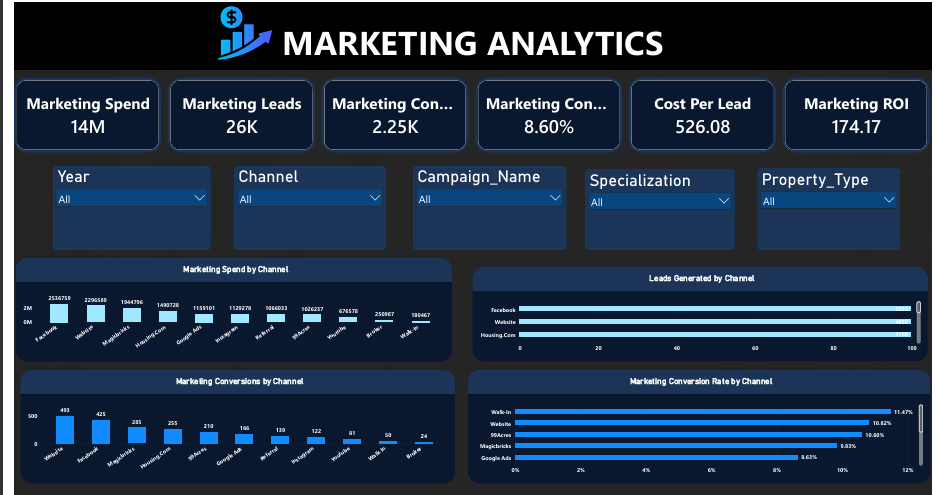

This screenshot's page, from the dashboard's own definition file:
{"tool":"powerbi","page":{"name":" Marketing Analytics","canvas":[2000,2700],"ordinal":5},"visuals":[{"type":"textbox","box":[0,0,2000,147.5],"z":0},{"type":"scatterChart","title":"Campaign Spend vs Revenue","fields":{"Category":["Dim_Campaign.Campaign_Name"],"Size":["_Marketing_Measures.Marketing Leads"],"X":["_Marketing_Measures.Marketing Spend"],"Y":["_Marketing_Measures.Marketing Revenue"]},"box":[1000,1570,926.7,280],"z":1000},{"type":"cardVisual","fields":{"Data":["_Marketing_Measures.Marketing Spend"]},"box":[0,165,320.8,162.5],"z":2000,"group":"g2"},{"type":"clusteredBarChart","title":"Top 10 Campaigns by Revenue","fields":{"Category":["Dim_Campaign.Campaign_Name"],"Y":["_Marketing_Measures.Marketing Revenue"]},"box":[10,1566.7,956.7,290],"z":2000},{"type":"group","id":"g1","title":"Group 1","box":[0,165,1995,162.5],"z":3000},{"type":"cardVisual","fields":{"Data":["_Marketing_Measures.Marketing Leads"]},"box":[334.8,165,320.8,162.5],"z":3000,"group":"g2"},{"type":"cardVisual","fields":{"Data":["_Marketing_Measures.Marketing Conversions"]},"box":[669.7,165,320.8,162.5],"z":4000,"group":"g2"},{"type":"clusteredColumnChart","title":"Marketing Spend by Channel","fields":{"Category":["Dim_Campaign.Channel"],"Y":["_Marketing_Measures.Marketing Spend"]},"box":[0,554,958,234],"z":4000},{"type":"cardVisual","fields":{"Data":["_Marketing_Measures.Marketing Conversion %"]},"box":[1004.5,165,320.8,162.5],"z":5000,"group":"g2"},{"type":"clusteredBarChart","title":"Leads Generated by Channel","fields":{"Category":["Dim_Campaign.Channel"],"Y":["_Marketing_Measures.Marketing Leads"]},"box":[995,573.3,1000,213.3],"z":5000},{"type":"cardVisual","fields":{"Data":["_Marketing_Measures.Cost Per Lead"]},"box":[1339.4,165,320.8,162.5],"z":6000,"group":"g2"},{"type":"clusteredColumnChart","fields":{"Category":["Dim_Campaign.Channel"],"Y":["_Marketing_Measures.Marketing Conversions"]},"box":[10,797.5,955,255],"z":6000},{"type":"cardVisual","fields":{"Data":["_Marketing_Measures.Marketing ROI"]},"box":[1674.2,165,320.8,162.5],"z":7000,"group":"g2"},{"type":"clusteredBarChart","title":"Marketing Conversion Rate by Channel","fields":{"Category":["Dim_Campaign.Channel"],"Y":["_Marketing_Measures.Marketing Conversion %"]},"box":[985,797.5,1015,255],"z":7000},{"type":"clusteredBarChart","title":"Cost per Lead by Channel","fields":{"Category":["Dim_Campaign.Channel"],"Y":["_Marketing_Measures.Cost Per Lead"]},"box":[0,1082.5,956.7,216.7],"z":8000},{"type":"clusteredColumnChart","title":"Marketing Revenue by Channel","fields":{"Category":["Dim_Campaign.Channel"],"Y":["_Marketing_Measures.Marketing Revenue"]},"box":[986.7,1083.3,1013.3,216.7],"z":9000},{"type":"clusteredBarChart","fields":{"Category":["Dim_Campaign.Channel"],"Y":["_Marketing_Measures.Marketing ROI"]},"box":[7.5,1332.5,957,200],"z":10000},{"type":"pivotTable","title":"Campaign Performance Scorecard","fields":{"Rows":["Dim_Campaign.Campaign_Name"],"Values":["_Marketing_Measures.Marketing Leads","_Marketing_Measures.Marketing Revenue","_Marketing_Measures.Marketing ROI","_Marketing_Measures.Marketing Conversions","_Marketing_Measures.Cost Per Lead","_Marketing_Measures.Marketing Conversion %","_Marketing_Measures.Marketing Spend"]},"box":[975,1333.3,1013,200],"z":11000},{"type":"slicer","fields":{"Values":["Dim_Date.Year"]},"box":[85,357.5,342.5,182.5],"z":12000},{"type":"slicer","fields":{"Values":["Dim_Campaign.Channel"]},"box":[480,357.5,330,182.5],"z":13000},{"type":"slicer","fields":{"Values":["Dim_Campaign.Campaign_Name"]},"box":[870,357.5,332.5,182.5],"z":14000},{"type":"slicer","fields":{"Values":["Dim_Agent.Specialization"]},"box":[1245,365,325,175],"z":15000},{"type":"slicer","fields":{"Values":["Dim_Property.Property_Type"]},"box":[1620,362.5,310,177.5],"z":16000},{"type":"group","id":"g2","title":"Group 2","box":[0,165,1995,162.5],"z":17001,"group":"g1"},{"type":"lineChart","title":"Monthly Marketing Revenue Trend","fields":{"Category":["Dim_Date.Year_Month"],"Y":["_Marketing_Measures.Marketing Spend"]},"box":[10,1896.7,986.7,423.3],"z":18000},{"type":"lineChart","title":"Total Revenue By Location","fields":{"Category":["Dim_Date.Year_Month"],"Y":["_Marketing_Measures.Marketing Revenue"]},"box":[1036.7,1896.7,890,736.7],"z":19000},{"type":"pivotTable","title":"Marketing Channel Performance","fields":{"Rows":["Dim_Campaign.Channel"],"Values":["_Marketing_Measures.Marketing Spend","_Marketing_Measures.Marketing Conversion %","_Marketing_Measures.Marketing ROI","_Marketing_Measures.Marketing Leads","_Marketing_Measures.Marketing Conversions"]},"box":[43.3,2343.3,960,290],"z":20000},{"type":"image","box":[342.5,0,320,135],"z":20001}]}

Visuals, with their boxes on the page's 2000x2700 design canvas (x1, y1, x2, y2). These are canvas units, not pixel positions in the 936x495 screenshot, which may show the page scaled, cropped or inside an application window:
textbox: x1=0, y1=0, x2=2000, y2=148
"Campaign Spend vs Revenue" scatterChart: x1=1000, y1=1570, x2=1927, y2=1850
cardVisual - _Marketing_Measures.Marketing Spend: x1=0, y1=165, x2=321, y2=328
"Top 10 Campaigns by Revenue" clusteredBarChart: x1=10, y1=1567, x2=967, y2=1857
"Group 1" group: x1=0, y1=165, x2=1995, y2=328
cardVisual - _Marketing_Measures.Marketing Leads: x1=335, y1=165, x2=656, y2=328
cardVisual - _Marketing_Measures.Marketing Conversions: x1=670, y1=165, x2=990, y2=328
"Marketing Spend by Channel" clusteredColumnChart: x1=0, y1=554, x2=958, y2=788
cardVisual - _Marketing_Measures.Marketing Conversion %: x1=1004, y1=165, x2=1325, y2=328
"Leads Generated by Channel" clusteredBarChart: x1=995, y1=573, x2=1995, y2=787
cardVisual - _Marketing_Measures.Cost Per Lead: x1=1339, y1=165, x2=1660, y2=328
clusteredColumnChart - Dim_Campaign.Channel x _Marketing_Measures.Marketing Conversions: x1=10, y1=798, x2=965, y2=1052
cardVisual - _Marketing_Measures.Marketing ROI: x1=1674, y1=165, x2=1995, y2=328
"Marketing Conversion Rate by Channel" clusteredBarChart: x1=985, y1=798, x2=2000, y2=1052
"Cost per Lead by Channel" clusteredBarChart: x1=0, y1=1082, x2=957, y2=1299
"Marketing Revenue by Channel" clusteredColumnChart: x1=987, y1=1083, x2=2000, y2=1300
clusteredBarChart - Dim_Campaign.Channel x _Marketing_Measures.Marketing ROI: x1=8, y1=1332, x2=964, y2=1532
"Campaign Performance Scorecard" pivotTable: x1=975, y1=1333, x2=1988, y2=1533
slicer - Dim_Date.Year: x1=85, y1=358, x2=428, y2=540
slicer - Dim_Campaign.Channel: x1=480, y1=358, x2=810, y2=540
slicer - Dim_Campaign.Campaign_Name: x1=870, y1=358, x2=1202, y2=540
slicer - Dim_Agent.Specialization: x1=1245, y1=365, x2=1570, y2=540
slicer - Dim_Property.Property_Type: x1=1620, y1=362, x2=1930, y2=540
"Group 2" group: x1=0, y1=165, x2=1995, y2=328
"Monthly Marketing Revenue Trend" lineChart: x1=10, y1=1897, x2=997, y2=2320
"Total Revenue By Location" lineChart: x1=1037, y1=1897, x2=1927, y2=2633
"Marketing Channel Performance" pivotTable: x1=43, y1=2343, x2=1003, y2=2633
image: x1=342, y1=0, x2=662, y2=135
